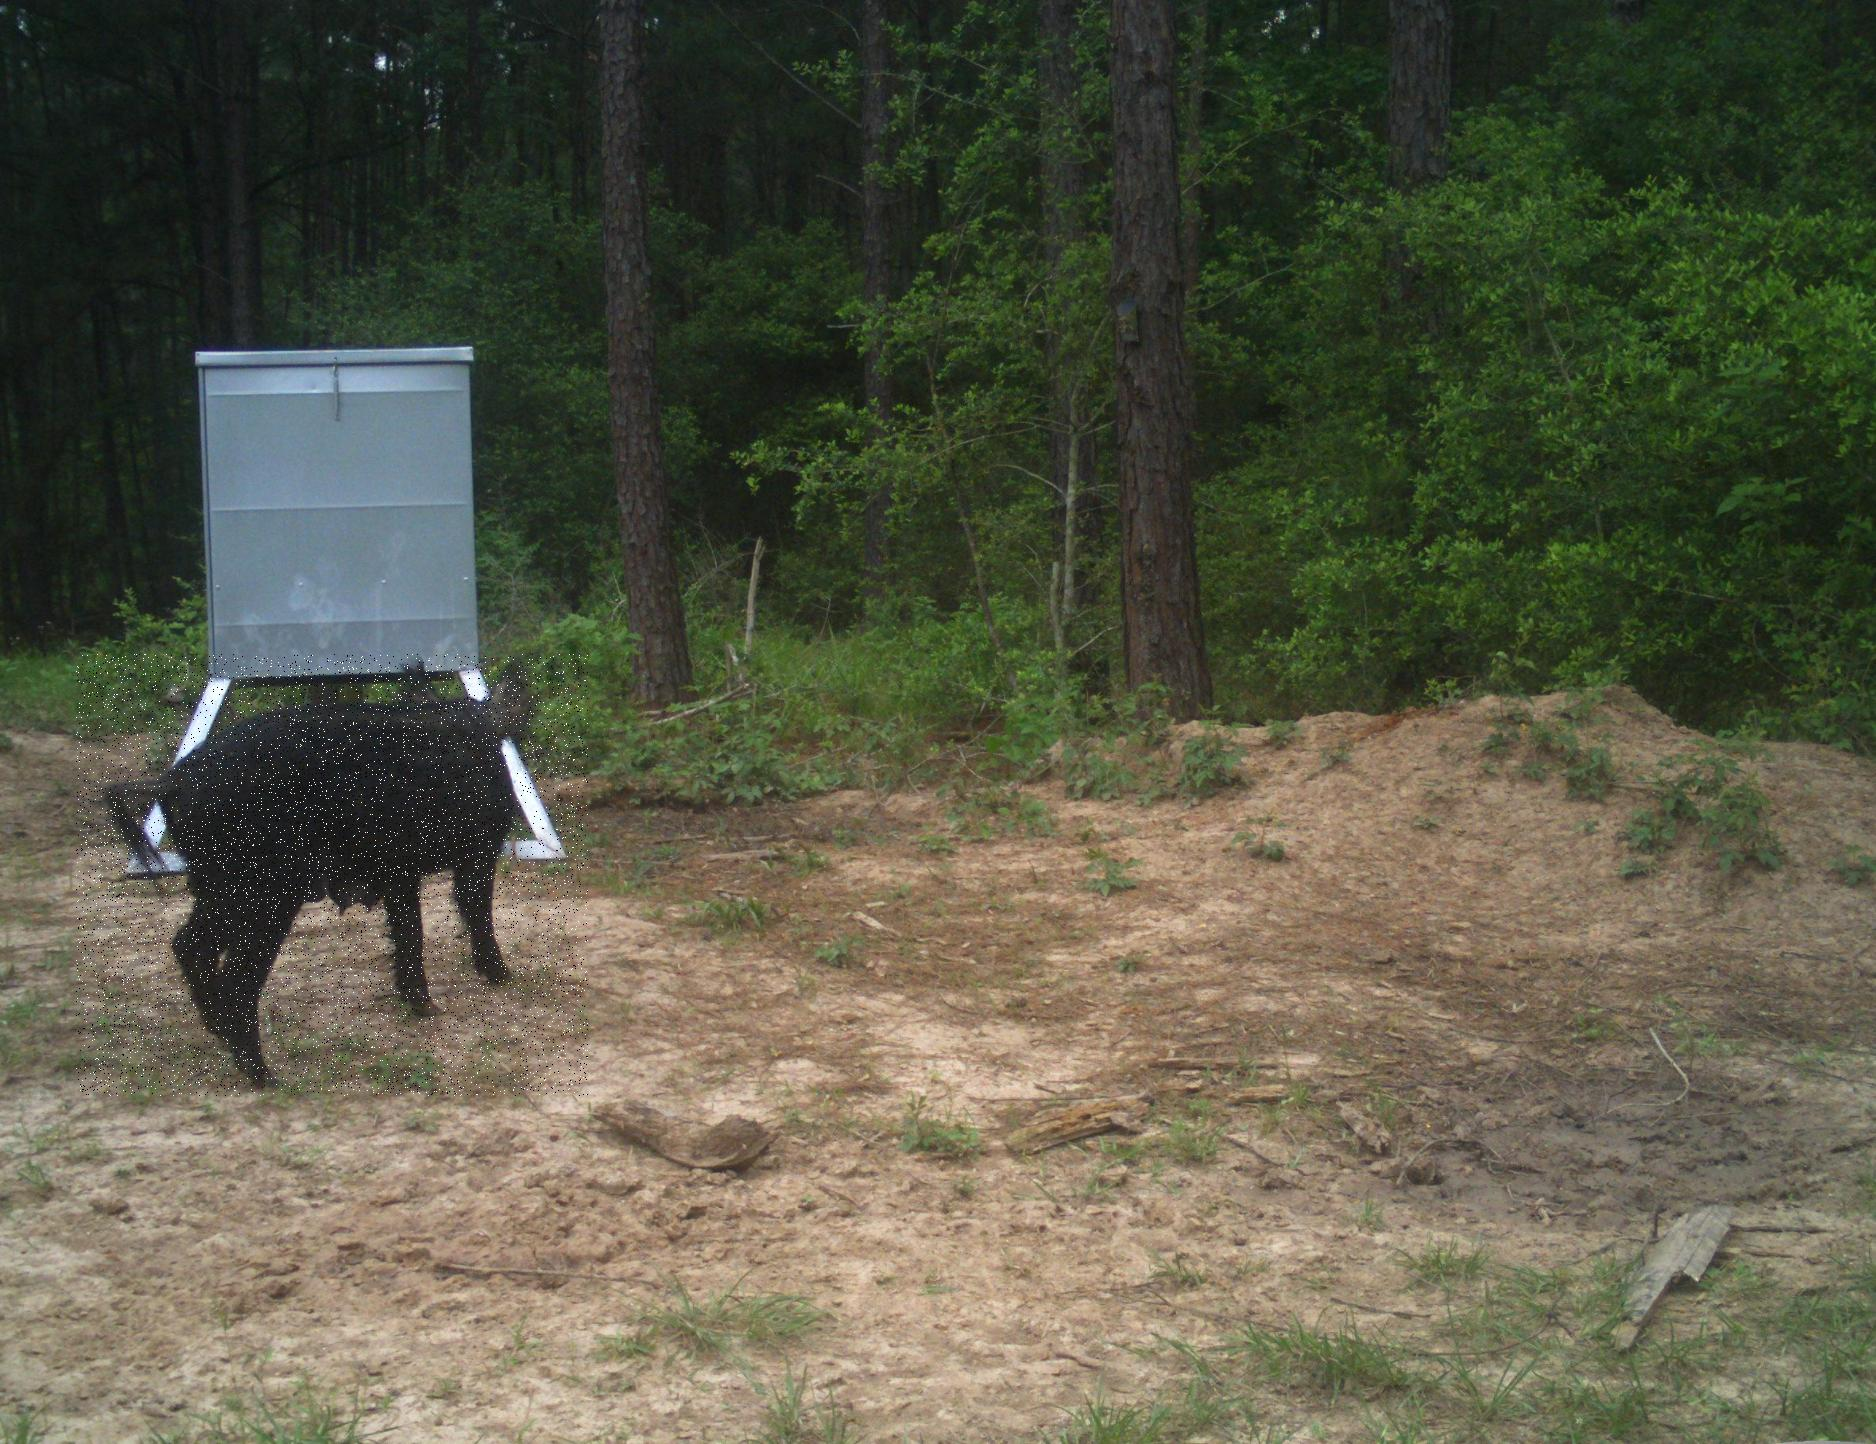Hog: (76, 654, 588, 1097)
